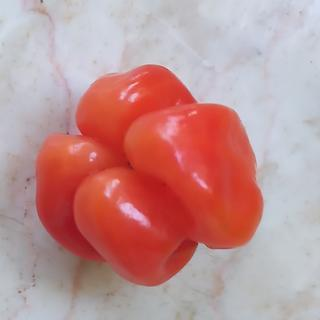Grade-B: (24, 55, 267, 292)
